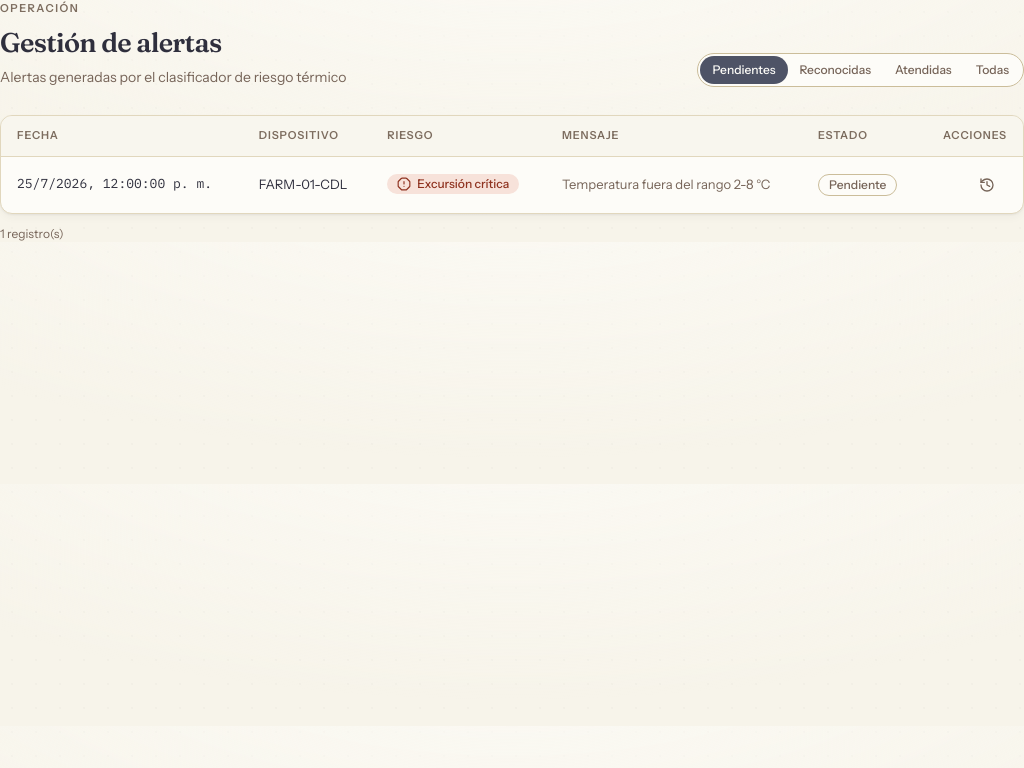
Scenario: AlertasPage (RF-09, RF-10, HU-20/21/23/27/41) › abre detalle de alerta pendiente para consulta, incluso con rol auditor
Click the button named "Ver cronología de atención: FARM-01-CDL": point(987, 184) left=967, top=168, right=1007, bottom=200
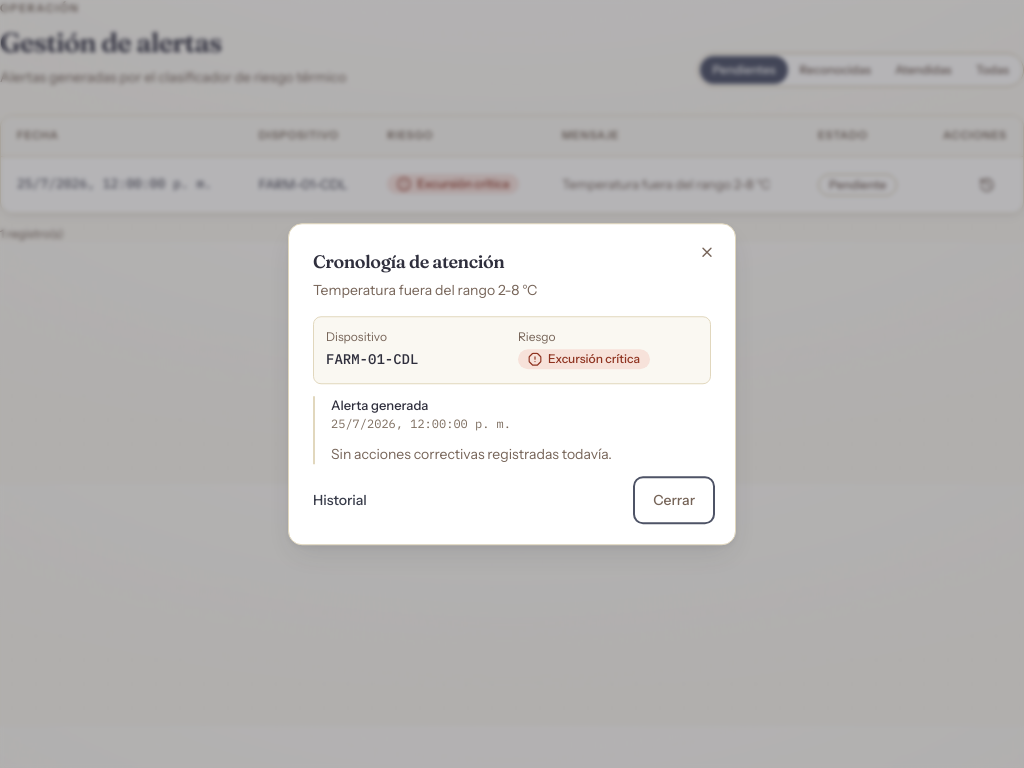
Now the dialog shows "FARM-01-CDL", box left=326, top=350, right=418, bottom=368
